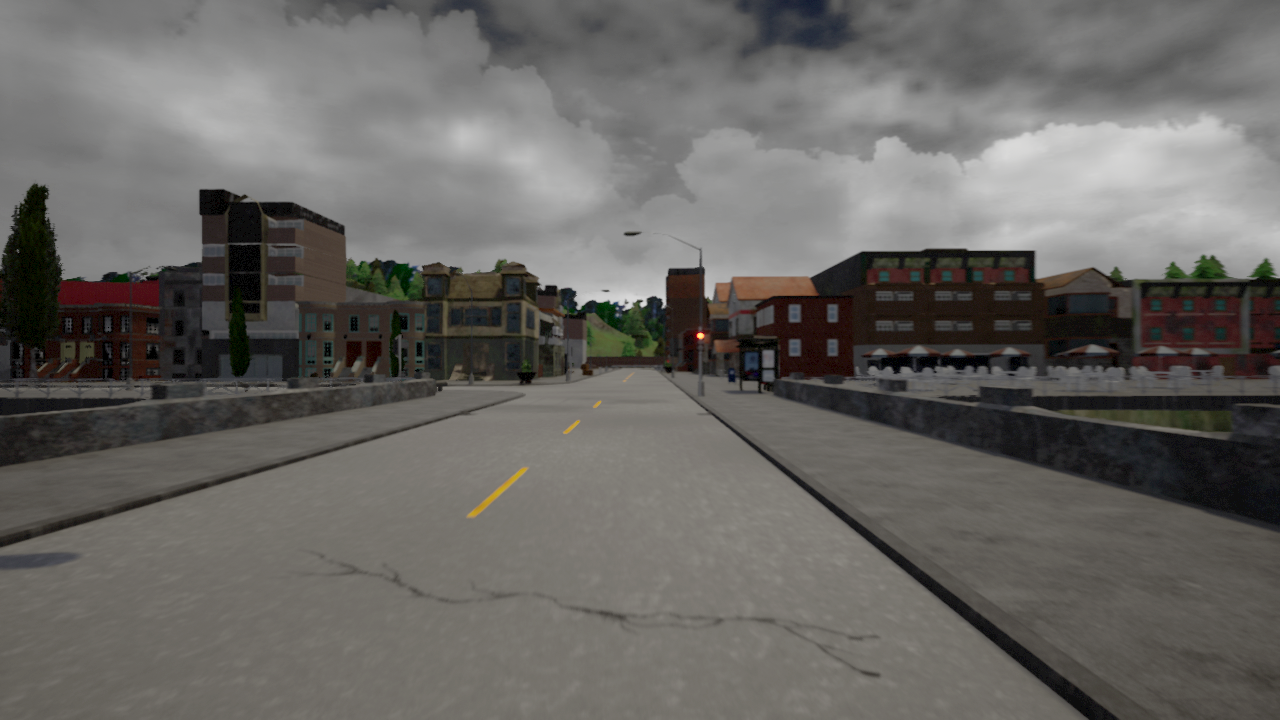red: (695, 331, 705, 354)
